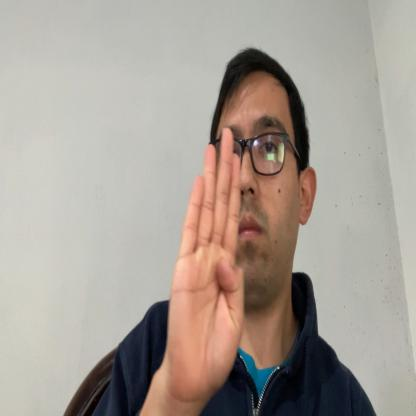B: (166, 125, 244, 401)
